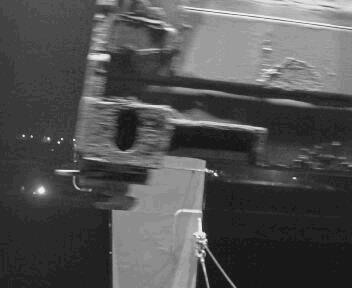twist_lock_1: (68, 157, 154, 215)
